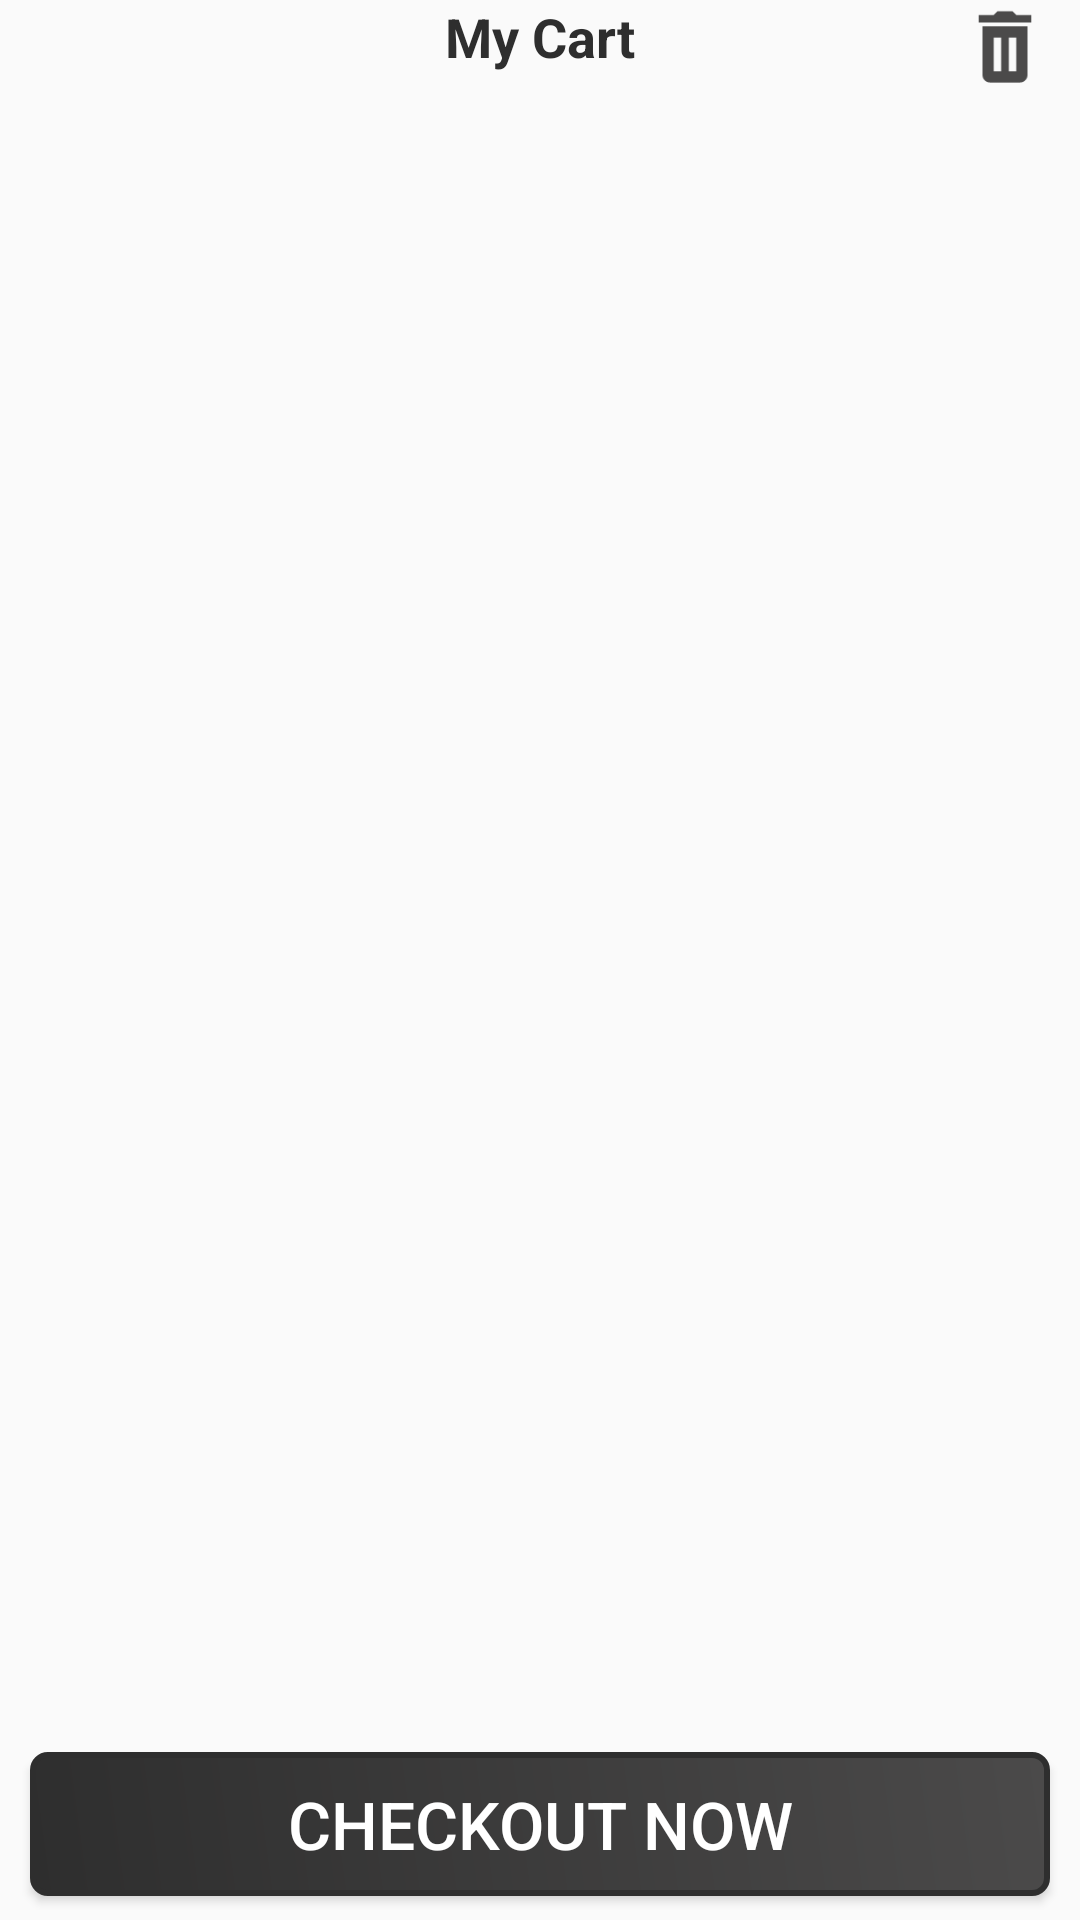

Screen size 1080×1920. Icon name, then its center in pixels as point (x, y):
delete: point (1005, 47)
